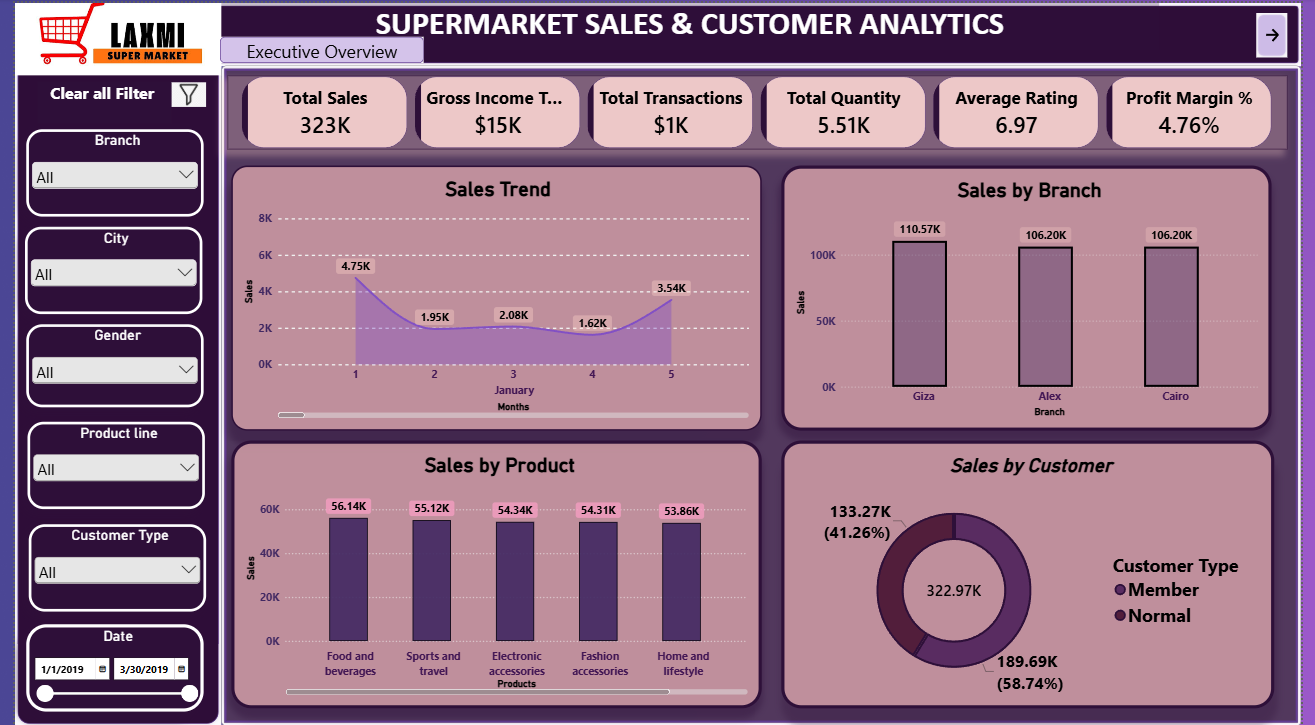

What the dashboard file says about the page in this screenshot:
{"tool":"powerbi","page":{"name":"Executive Overview","canvas":[1920,1080],"ordinal":0},"visuals":[{"type":"shape","box":[0,0,308,1080],"z":0},{"type":"slicer","title":"Date","fields":{"Values":["Sales.Date"]},"box":[16,926,265,130],"z":0,"group":"g1"},{"type":"shape","box":[0,0,1920,94],"z":1000},{"type":"slicer","title":"Customer Type","fields":{"Values":["Sales.Customer type"]},"box":[20,778,265,130],"z":1000,"group":"g1"},{"type":"textbox","box":[286,0,1422,70],"z":2000},{"type":"slicer","title":"Gender","fields":{"Values":["Sales.Gender"]},"box":[16,480,265,124],"z":2000,"group":"g1"},{"type":"image","box":[0,0,308,108],"z":3000},{"type":"slicer","title":"City","fields":{"Values":["Sales.City"]},"box":[14,334,265,130],"z":3000,"group":"g1"},{"type":"shape","box":[308,94,1612,986],"z":4000},{"type":"slicer","title":"Product line","fields":{"Values":["Sales.Product line"]},"box":[18,624,265,130],"z":4000,"group":"g1"},{"type":"image","box":[234,118,52,38],"z":5000},{"type":"slicer","title":"Branch","fields":{"Values":["Sales.Branch"]},"box":[16,188,265,130],"z":5000,"group":"g1"},{"type":"actionButton","box":[1852,14,46.7,66.7],"z":6000},{"type":"group","id":"g1","title":"Group 1","box":[14,188,271,868],"z":7000},{"type":"textbox","box":[34,118,200,62],"z":8000},{"type":"shape","box":[306.7,50,304.1,39.2],"z":9000},{"type":"cardVisual","fields":{"Data":["Measure.Total Sales","Measure.Gross Income Target","Measure.Total Transactions","Measure.Total Quantity","Measure.Average Rating","Measure.Profit Margin %"]},"box":[317.2,108.2,1582.3,110.1],"z":10000},{"type":"lineChart","title":"Sales Trend","fields":{"Category":["DateTable.Month","DateTable.Day"],"Y":["Measure.Total Sales"]},"box":[322,242,792,396],"z":11000},{"type":"clusteredColumnChart","title":"Sales by Product","fields":{"Category":["Sales.Product line"],"Y":["Measure.Total Sales"]},"box":[322,654,792,400],"z":12000},{"type":"columnChart","title":"Sales by Branch","fields":{"Category":["Sales.Branch"],"Y":["Measure.Total Sales"]},"box":[1144,242,732,396],"z":13000},{"type":"donutChart","title":"Sales by Customer","fields":{"Category":["Sales.Customer type"],"Y":["Measure.Total Sales"]},"box":[1144,654,736,400],"z":14000}]}

Visuals, with their boxes in screenshot pixels (x1, y1, x2, y2), scaled from the page's 1920x1080 canvas onto the 1315x725 screenshot:
shape: select_region(0, 0, 211, 724)
"Date" slicer: select_region(11, 622, 192, 709)
shape: select_region(0, 0, 1314, 63)
"Customer Type" slicer: select_region(14, 522, 195, 610)
textbox: select_region(196, 0, 1170, 47)
"Gender" slicer: select_region(11, 322, 192, 405)
image: select_region(0, 0, 211, 72)
"City" slicer: select_region(10, 224, 191, 311)
shape: select_region(211, 63, 1314, 724)
"Product line" slicer: select_region(12, 419, 194, 506)
image: select_region(160, 79, 196, 105)
"Branch" slicer: select_region(11, 126, 192, 213)
actionButton: select_region(1268, 9, 1300, 54)
"Group 1" group: select_region(10, 126, 195, 709)
textbox: select_region(23, 79, 160, 121)
shape: select_region(210, 34, 418, 60)
cardVisual - Measure.Total Sales x Measure.Gross Income Target: select_region(217, 73, 1301, 147)
"Sales Trend" lineChart: select_region(221, 162, 763, 428)
"Sales by Product" clusteredColumnChart: select_region(221, 439, 763, 708)
"Sales by Branch" columnChart: select_region(784, 162, 1285, 428)
"Sales by Customer" donutChart: select_region(784, 439, 1288, 708)
